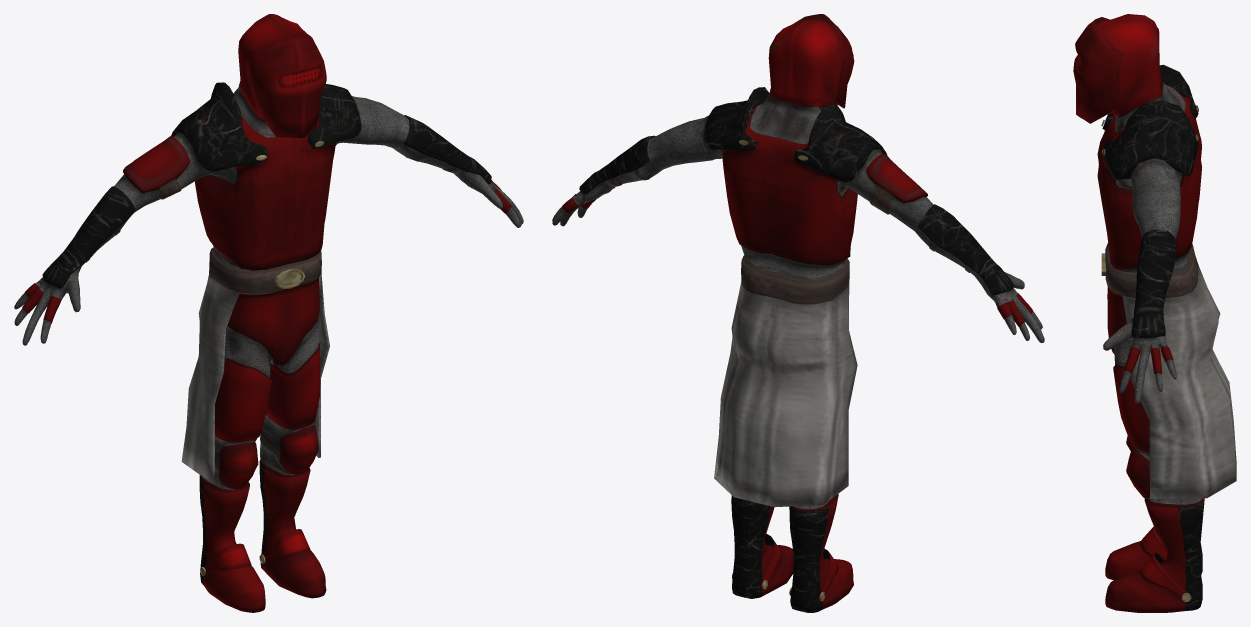
The model's file is Knight_Default.fbx.
The picture shows the model from 3 angles, left to right: view 1: azimuth 30°, elevation 25°; view 2: azimuth 150°, elevation 25°; view 3: azimuth 270°, elevation 25°; orthographic projection. The views are drawn at different scales.
Parts seen in each view (by area): view 1: Face_LowPoly; view 2: Face_LowPoly; view 3: Face_LowPoly.
Boxes of the visible parts, x1,y1,x2,y2 form: Face_LowPoly: [14, 14, 523, 612]; Face_LowPoly: [552, 14, 1044, 612]; Face_LowPoly: [1073, 14, 1236, 612].
Bounding box in the file's own units: 2315 × 2551 × 657.
Materials: 1 (1 with a texture image).
